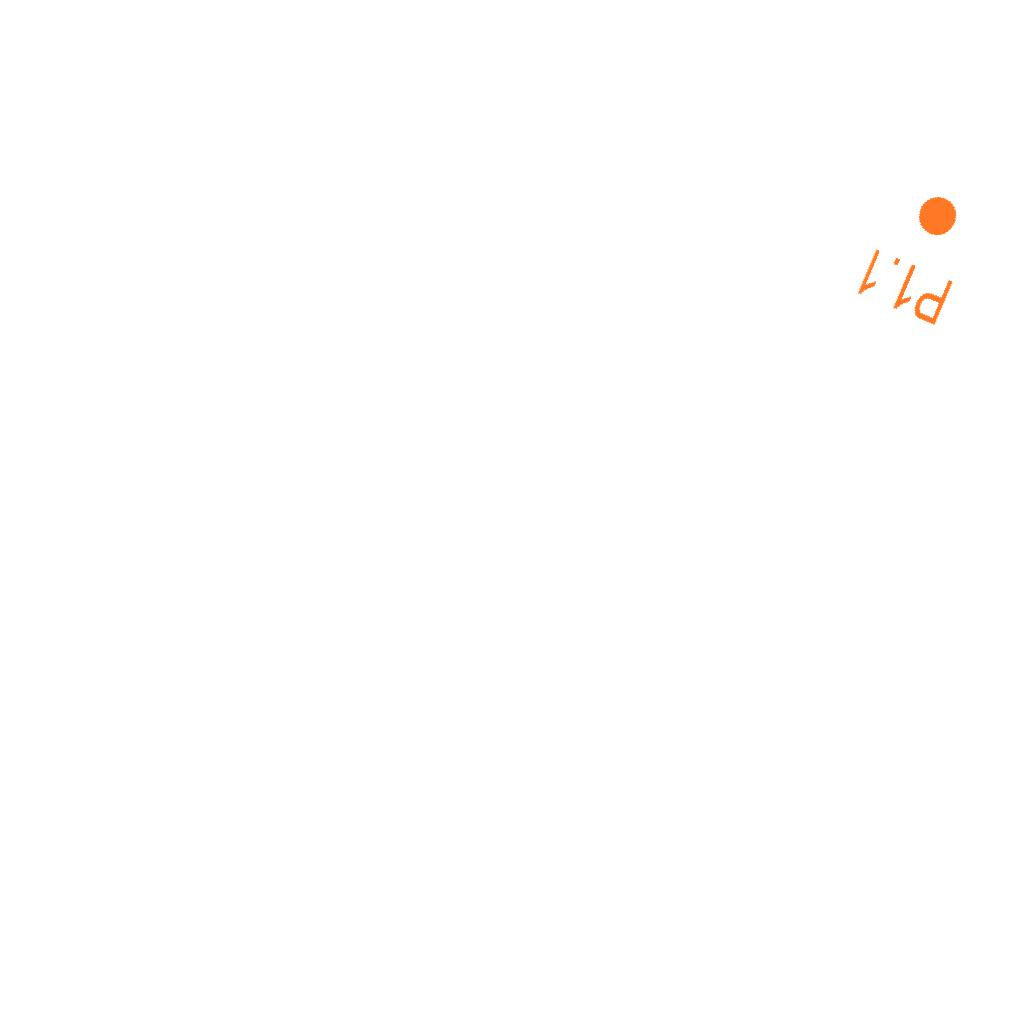Downlight_LED_Einbauleuchten_Flur_2: (850, 175, 987, 331)
